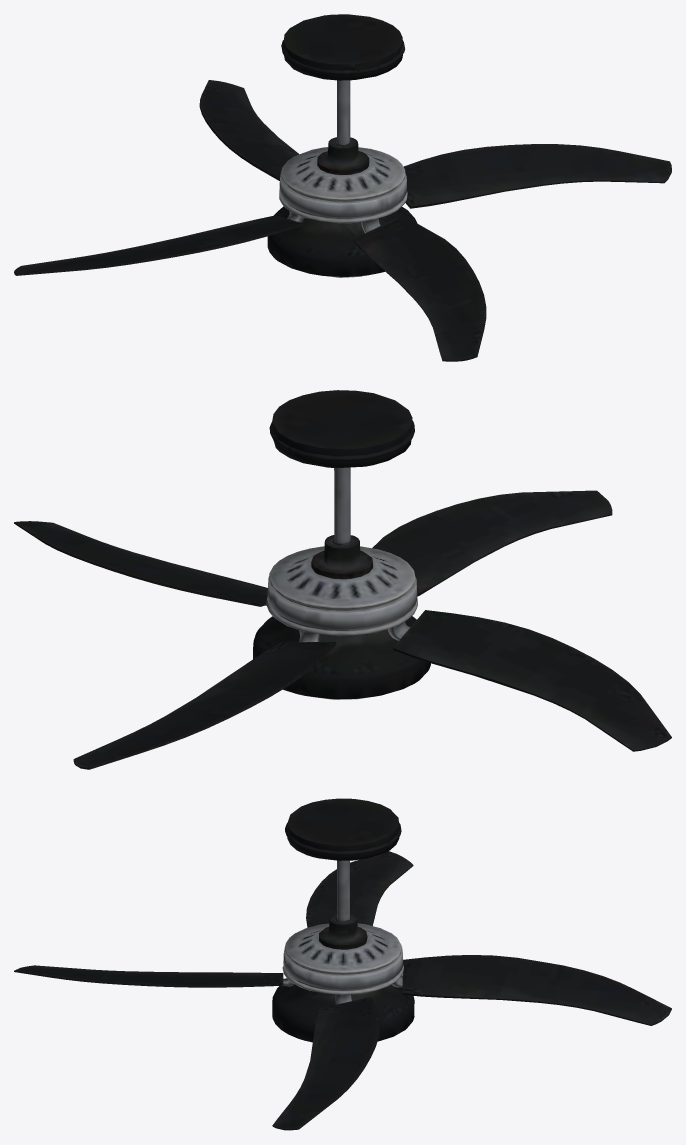
File: ceiling_fan.l.e81de869.glb
3 renders of one model, top to bottom at view 1: azimuth 30°, elevation 25°; view 2: azimuth 150°, elevation 25°; view 3: azimuth 270°, elevation 25°, orthographic. The views are drawn at different scales.
Parts seen in each view (by area): view 1: ceiling_fan_blades, ceiling_fan; view 2: ceiling_fan_blades, ceiling_fan; view 3: ceiling_fan_blades, ceiling_fan.
Boxes of the visible parts, x1,y1,x2,y2 form: ceiling_fan_blades: [14, 80, 671, 361]; ceiling_fan: [267, 14, 417, 277]; ceiling_fan_blades: [14, 490, 671, 769]; ceiling_fan: [253, 390, 430, 699]; ceiling_fan_blades: [14, 851, 671, 1130]; ceiling_fan: [272, 798, 414, 1042].
Bounding box in the file's own units: 1.46 × 0.5163 × 1.46.
Materials: 1 (1 with a texture image).
